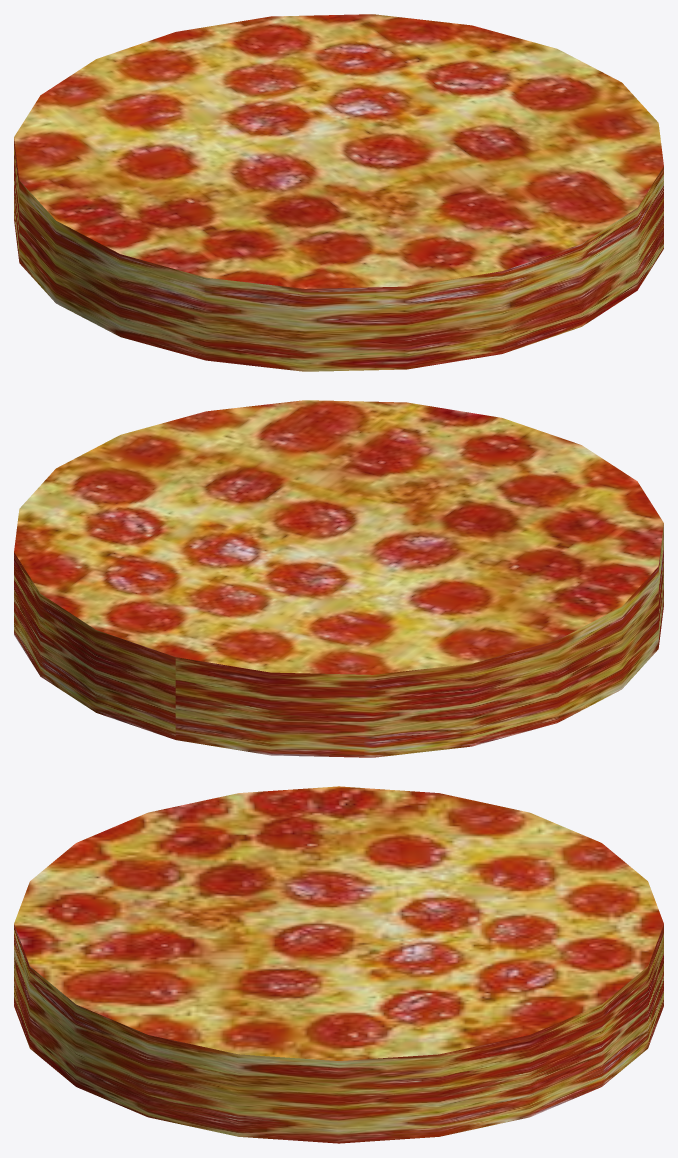
The model's file is pizza.fbx.
3 renders of one model, top to bottom at view 1: azimuth 30°, elevation 25°; view 2: azimuth 150°, elevation 25°; view 3: azimuth 270°, elevation 25°, orthographic.
Visible parts, largest first — view 1: pCylinder7; view 2: pCylinder7; view 3: pCylinder7.
Boxes of the visible parts, left/top/right/bottom form: pCylinder7: left=14, top=14, right=663, bottom=371; pCylinder7: left=14, top=400, right=663, bottom=757; pCylinder7: left=14, top=786, right=663, bottom=1143.
Bounding box in the file's own units: 4.06 × 0.5677 × 4.06.
1 material, 1 textured.
